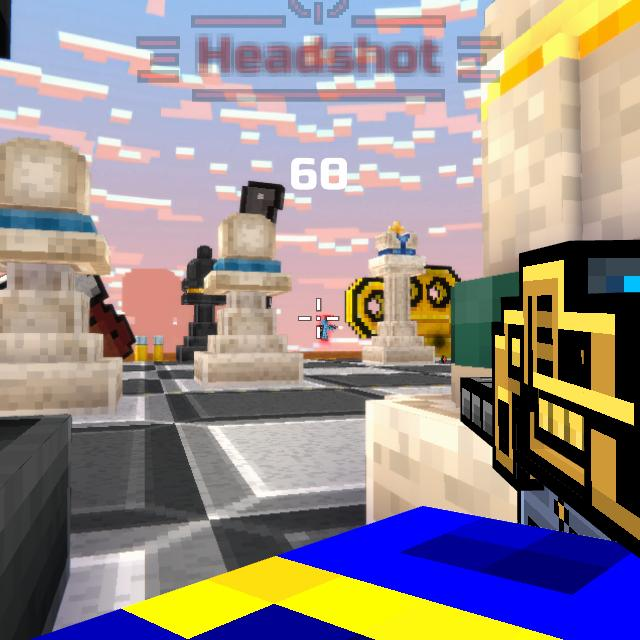Enemy: (316, 317, 331, 339)
